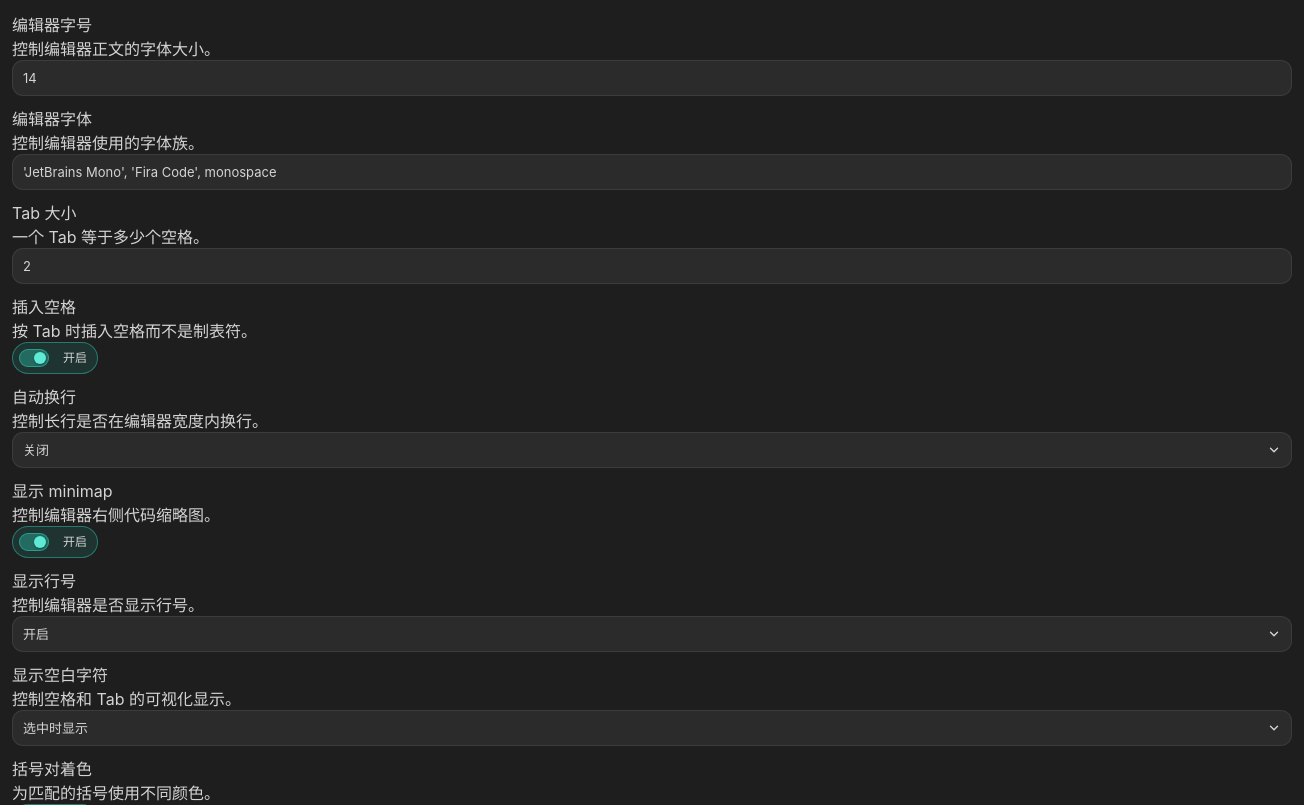
Test: SchemaSettingsSection › renders boolean settings as styled switches and toggles values
Click the switch named "显示 minimap": (55, 542) [12,526,98,558]
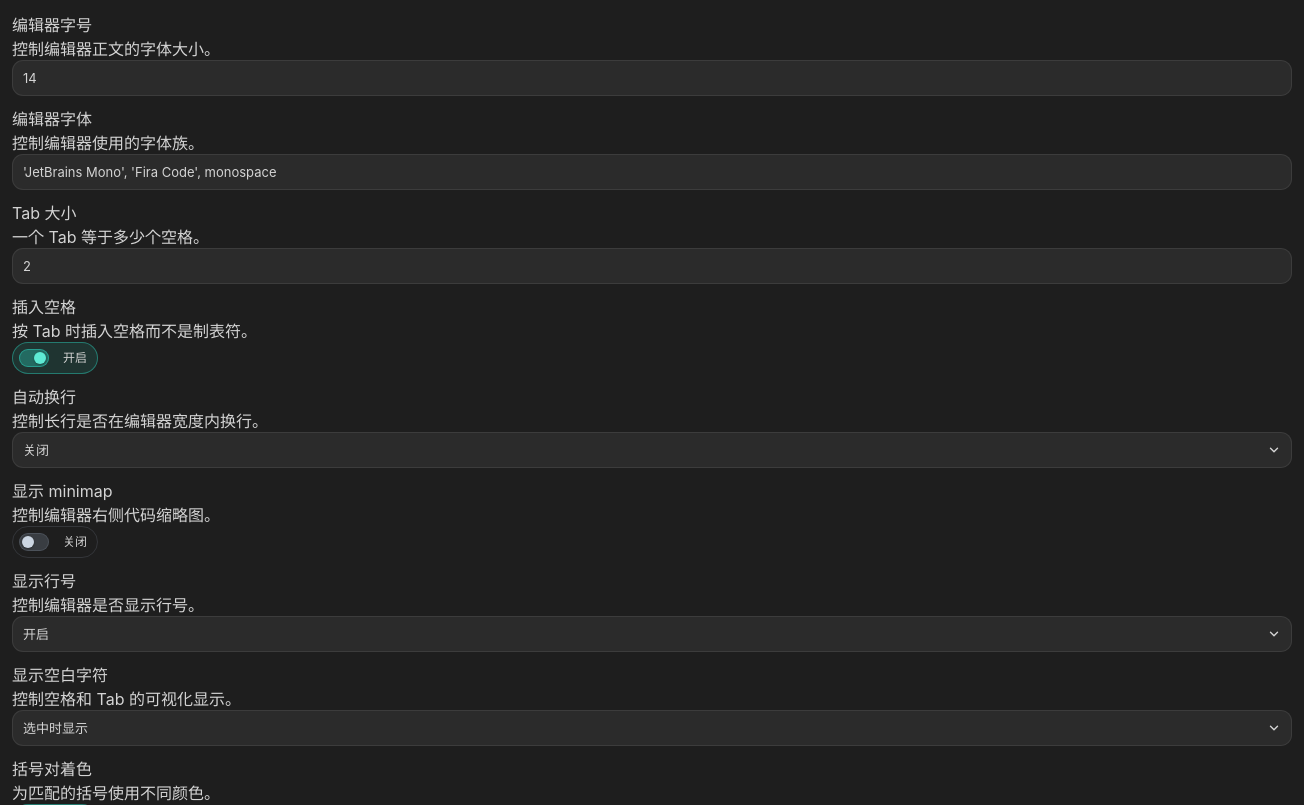
Now the switch named "显示 minimap" reads "关闭", box [12,526,98,558]
